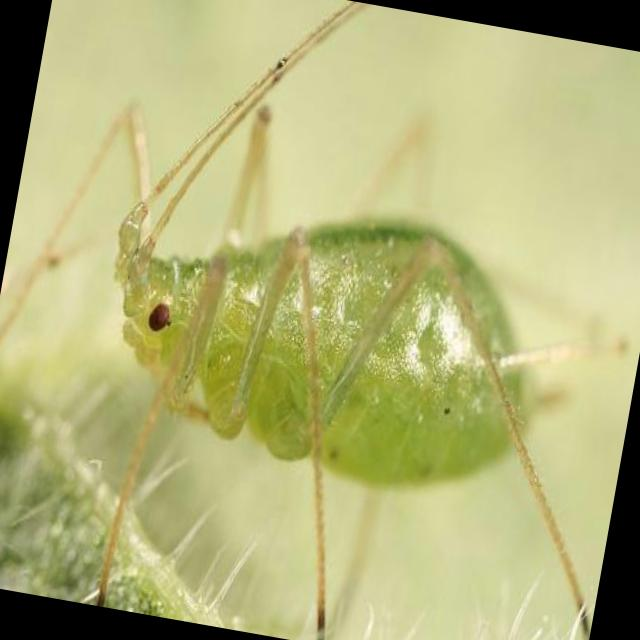Aphids: (24, 63, 598, 623)
